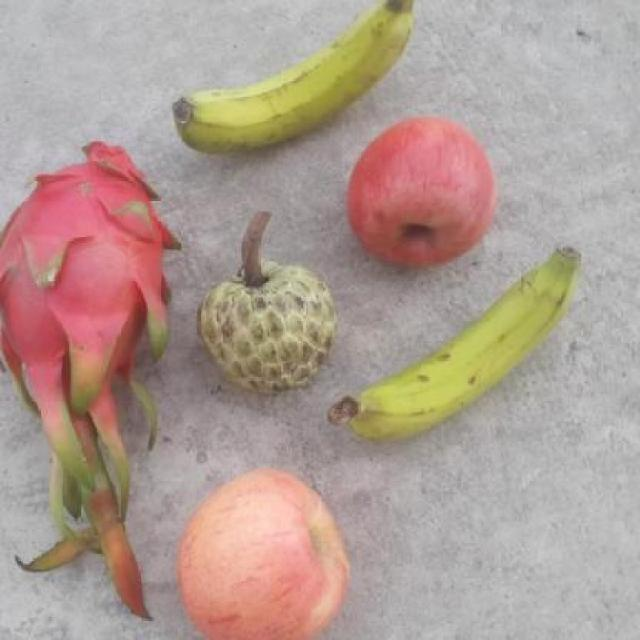apple: (172, 463, 356, 640), (343, 111, 503, 272)
banana: (345, 244, 580, 436), (171, 1, 432, 161)
dragon fruit: (0, 140, 188, 422)
sugar apple: (200, 255, 342, 398)
